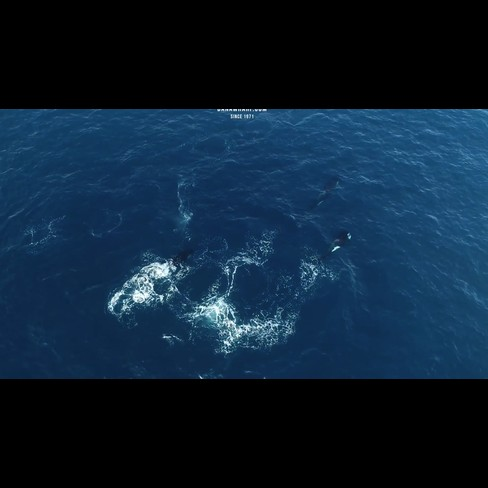orca: (310, 230, 354, 269), (155, 242, 201, 276)
